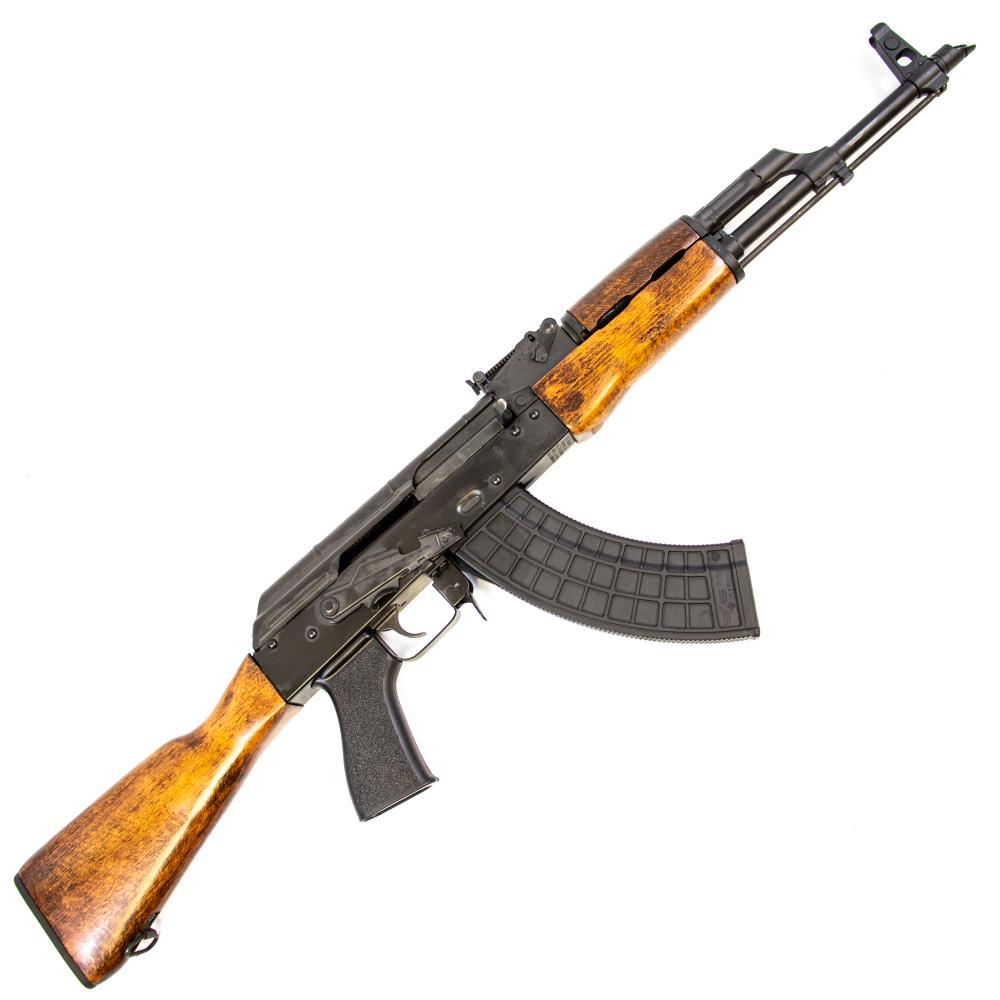larga: (0, 20, 976, 991)
